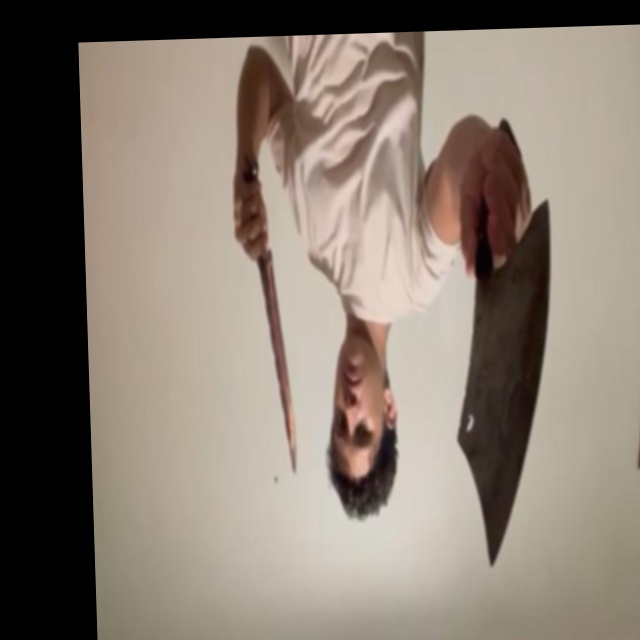Sharp-Object: (448, 199, 560, 568), (256, 253, 295, 474)
